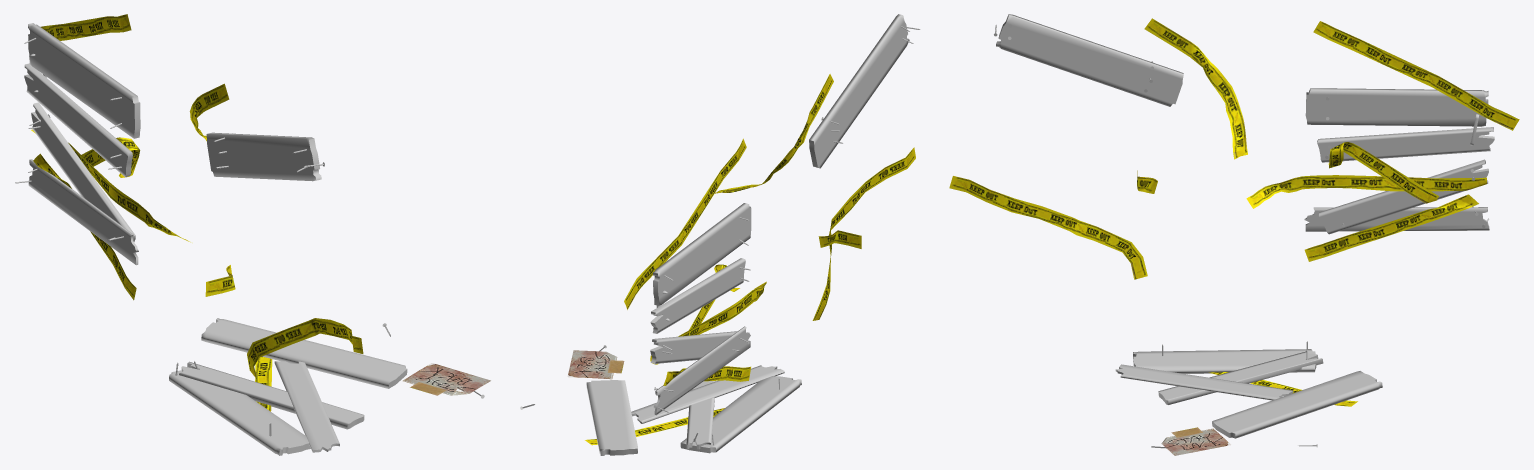
The model's file is sm21_025_windowkeepout01a.fbx.
3 renders of one model, left to right at view 1: azimuth 30°, elevation 25°; view 2: azimuth 150°, elevation 25°; view 3: azimuth 270°, elevation 25°, orthographic. The views are drawn at different scales.
Visible parts, largest first — view 1: LOD_1_Group_101_Sub_1__sm21_025_WindowKeepOut01A_B_Mat, LOD_1_Group_7_Sub_1__sm21_025_WindowKeepOut01A_A_Mat, LOD_1_Group_0_Sub_2__sm21_025_WindowKeepOut01A_B_Mat1, LOD_1_Group_0_Sub_1__sm21_025_WindowKeepOut01A_A_Mat, LOD_1_Group_6_Sub_1__sm21_025_WindowKeepOut01A_A_Mat, LOD_1_Group_13_Sub_1__sm21_025_WindowKeepOut01A_A_Mat, LOD_1_Group_9_Sub_1__sm21_025_WindowKeepOut01A_A_Mat, LOD_1_Group_10_Sub_1__sm21_025_WindowKeepOut01A_A_Mat, LOD_1_Group_12_Sub_1__sm21_025_WindowKeepOut01A_A_Mat; view 2: LOD_1_Group_101_Sub_1__sm21_025_WindowKeepOut01A_B_Mat, LOD_1_Group_0_Sub_2__sm21_025_WindowKeepOut01A_B_Mat1, LOD_1_Group_6_Sub_1__sm21_025_WindowKeepOut01A_A_Mat, LOD_1_Group_7_Sub_1__sm21_025_WindowKeepOut01A_A_Mat, LOD_1_Group_0_Sub_1__sm21_025_WindowKeepOut01A_A_Mat, LOD_1_Group_13_Sub_1__sm21_025_WindowKeepOut01A_A_Mat, LOD_1_Group_12_Sub_1__sm21_025_WindowKeepOut01A_A_Mat, LOD_1_Group_10_Sub_1__sm21_025_WindowKeepOut01A_A_Mat; view 3: LOD_1_Group_101_Sub_1__sm21_025_WindowKeepOut01A_B_Mat, LOD_1_Group_0_Sub_2__sm21_025_WindowKeepOut01A_B_Mat1, LOD_1_Group_7_Sub_1__sm21_025_WindowKeepOut01A_A_Mat, LOD_1_Group_6_Sub_1__sm21_025_WindowKeepOut01A_A_Mat, LOD_1_Group_13_Sub_1__sm21_025_WindowKeepOut01A_A_Mat, LOD_1_Group_9_Sub_1__sm21_025_WindowKeepOut01A_A_Mat, LOD_1_Group_0_Sub_1__sm21_025_WindowKeepOut01A_A_Mat.
Part boxes in pixels (x1=…): LOD_1_Group_101_Sub_1__sm21_025_WindowKeepOut01A_B_Mat: x1=15, y1=23, x2=484, y2=455; LOD_1_Group_7_Sub_1__sm21_025_WindowKeepOut01A_A_Mat: x1=247, y1=318, x2=363, y2=379; LOD_1_Group_0_Sub_2__sm21_025_WindowKeepOut01A_B_Mat1: x1=31, y1=83, x2=229, y2=242; LOD_1_Group_0_Sub_1__sm21_025_WindowKeepOut01A_A_Mat: x1=403, y1=363, x2=490, y2=395; LOD_1_Group_6_Sub_1__sm21_025_WindowKeepOut01A_A_Mat: x1=41, y1=14, x2=131, y2=40; LOD_1_Group_13_Sub_1__sm21_025_WindowKeepOut01A_A_Mat: x1=33, y1=153, x2=136, y2=300; LOD_1_Group_9_Sub_1__sm21_025_WindowKeepOut01A_A_Mat: x1=81, y1=137, x2=140, y2=177; LOD_1_Group_10_Sub_1__sm21_025_WindowKeepOut01A_A_Mat: x1=255, y1=356, x2=272, y2=411; LOD_1_Group_12_Sub_1__sm21_025_WindowKeepOut01A_A_Mat: x1=205, y1=265, x2=235, y2=296; LOD_1_Group_101_Sub_1__sm21_025_WindowKeepOut01A_B_Mat: x1=520, y1=14, x2=920, y2=455; LOD_1_Group_0_Sub_2__sm21_025_WindowKeepOut01A_B_Mat1: x1=650, y1=74, x2=833, y2=364; LOD_1_Group_6_Sub_1__sm21_025_WindowKeepOut01A_A_Mat: x1=624, y1=138, x2=746, y2=309; LOD_1_Group_7_Sub_1__sm21_025_WindowKeepOut01A_A_Mat: x1=812, y1=147, x2=915, y2=320; LOD_1_Group_0_Sub_1__sm21_025_WindowKeepOut01A_A_Mat: x1=567, y1=350, x2=624, y2=379; LOD_1_Group_13_Sub_1__sm21_025_WindowKeepOut01A_A_Mat: x1=663, y1=366, x2=750, y2=385; LOD_1_Group_12_Sub_1__sm21_025_WindowKeepOut01A_A_Mat: x1=818, y1=230, x2=861, y2=248; LOD_1_Group_10_Sub_1__sm21_025_WindowKeepOut01A_A_Mat: x1=585, y1=408, x2=724, y2=445; LOD_1_Group_101_Sub_1__sm21_025_WindowKeepOut01A_B_Mat: x1=994, y1=14, x2=1494, y2=448; LOD_1_Group_0_Sub_2__sm21_025_WindowKeepOut01A_B_Mat1: x1=1144, y1=18, x2=1486, y2=208; LOD_1_Group_7_Sub_1__sm21_025_WindowKeepOut01A_A_Mat: x1=949, y1=176, x2=1147, y2=279; LOD_1_Group_6_Sub_1__sm21_025_WindowKeepOut01A_A_Mat: x1=1313, y1=21, x2=1519, y2=130; LOD_1_Group_13_Sub_1__sm21_025_WindowKeepOut01A_A_Mat: x1=1304, y1=194, x2=1478, y2=261; LOD_1_Group_9_Sub_1__sm21_025_WindowKeepOut01A_A_Mat: x1=1328, y1=142, x2=1438, y2=203; LOD_1_Group_0_Sub_1__sm21_025_WindowKeepOut01A_A_Mat: x1=1161, y1=427, x2=1230, y2=455.
Size of the model in its own units: 243 by 291 by 457.
